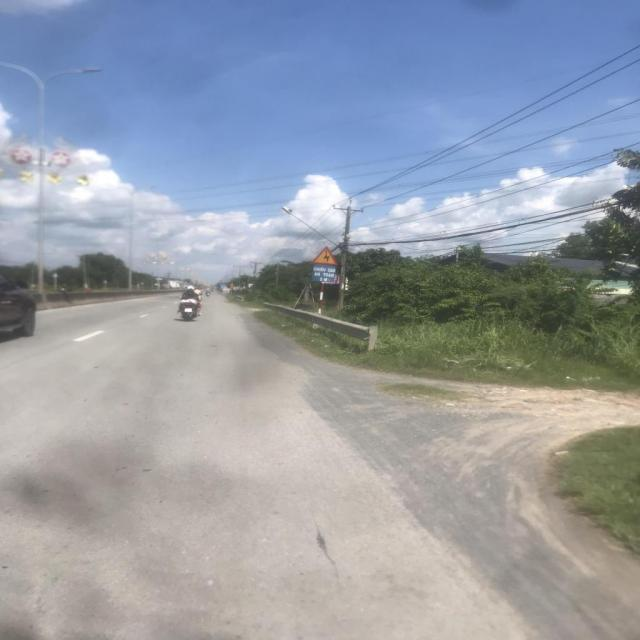khac: (311, 246, 339, 266)
